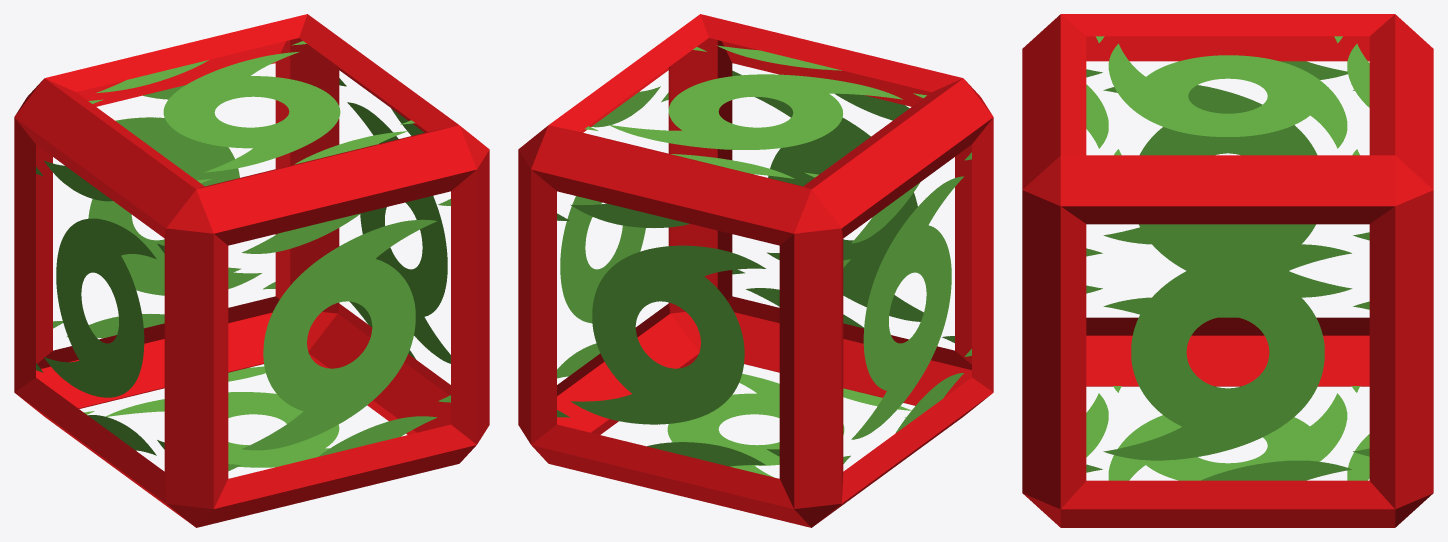
Rendered from Powerups_New_Bullet.fbx.
3 views of the same model, side by side, from view 1: azimuth 30°, elevation 25°; view 2: azimuth 150°, elevation 25°; view 3: azimuth 270°, elevation 25° (orthographic). The views are drawn at different scales.
Parts seen in each view (by area): view 1: New_Bullet; view 2: New_Bullet; view 3: New_Bullet.
Part boxes in pixels (x1=…): New_Bullet: x1=14, y1=14, x2=489, y2=527; New_Bullet: x1=518, y1=14, x2=993, y2=527; New_Bullet: x1=1022, y1=14, x2=1433, y2=527.
Size of the model in its own units: 200 by 200 by 200.
